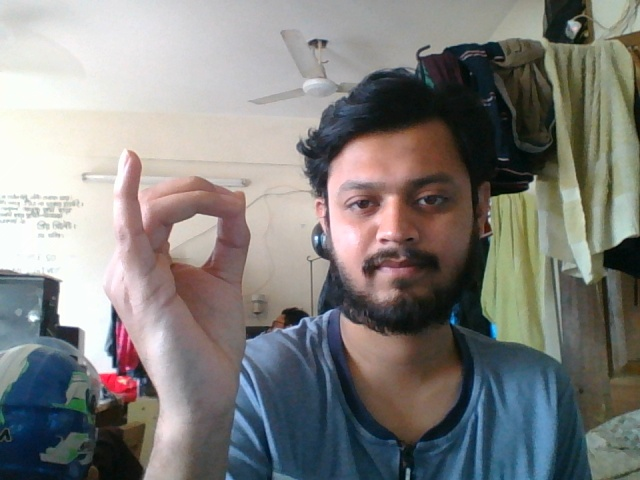ou: (100, 145, 267, 419)
